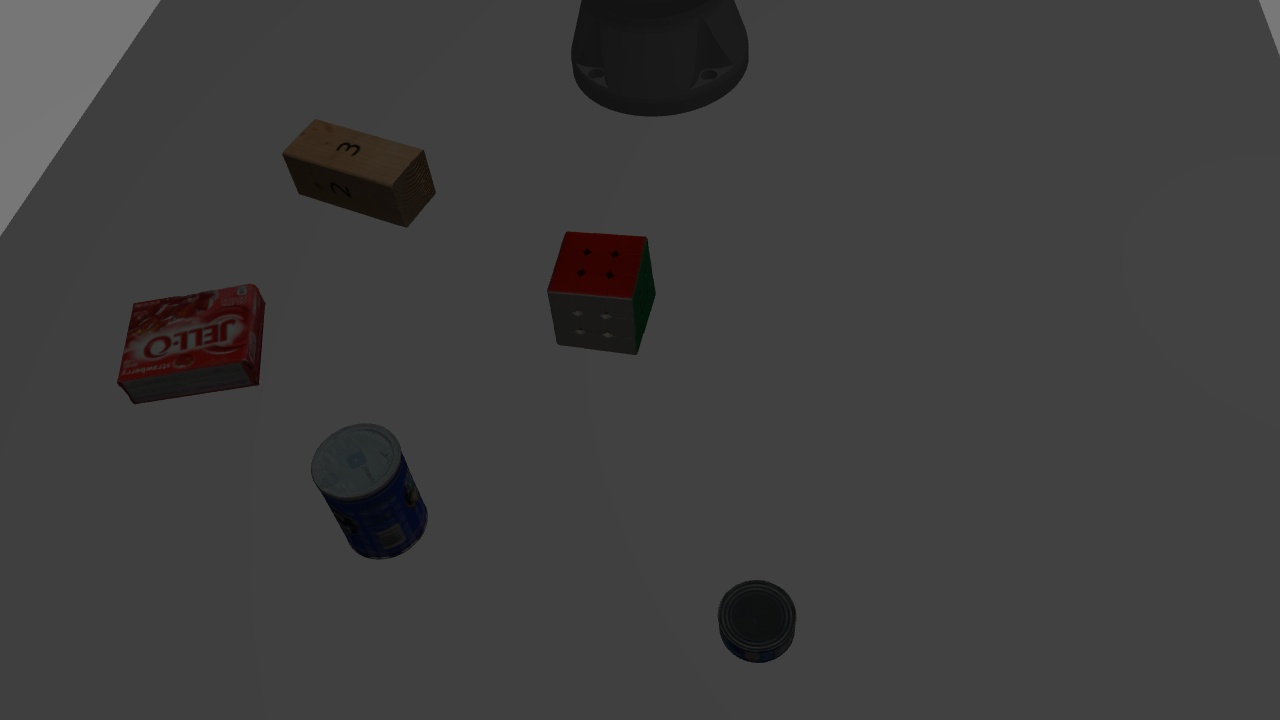gelatin_box: (114, 295, 274, 399)
master_chef_can: (302, 421, 441, 569)
rubiks_cube: (548, 220, 659, 361)
tuna_fish_can: (716, 576, 801, 666), (713, 575, 800, 622)
wood_block: (274, 108, 444, 229)
